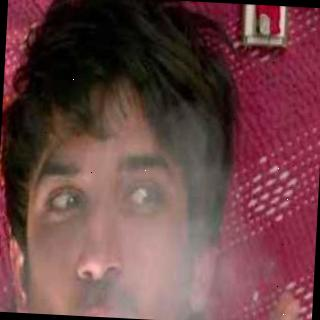smoke: (105, 102, 274, 320)
